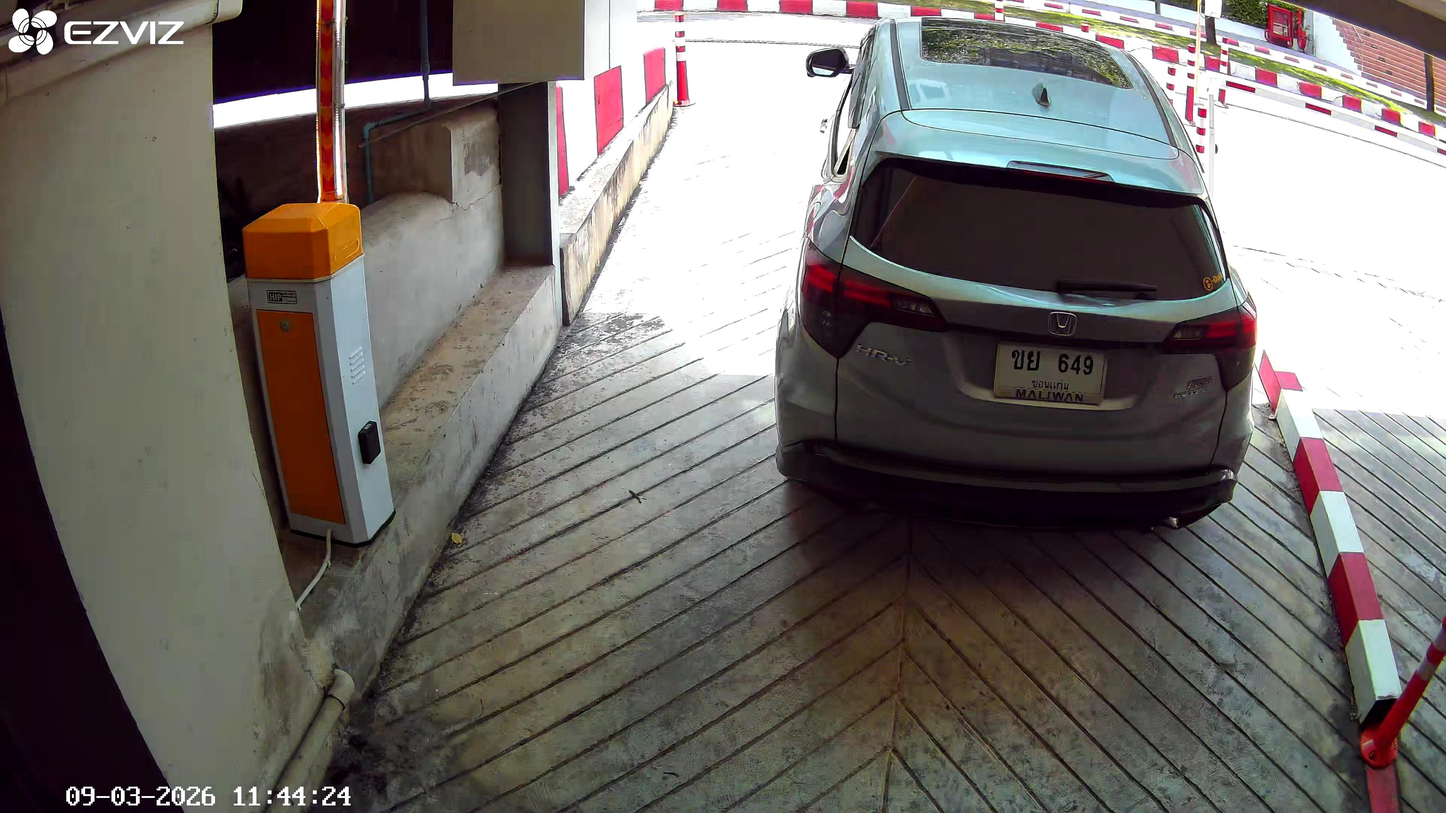car: (773, 14, 1260, 530)
license-plate: (991, 336, 1108, 407)
